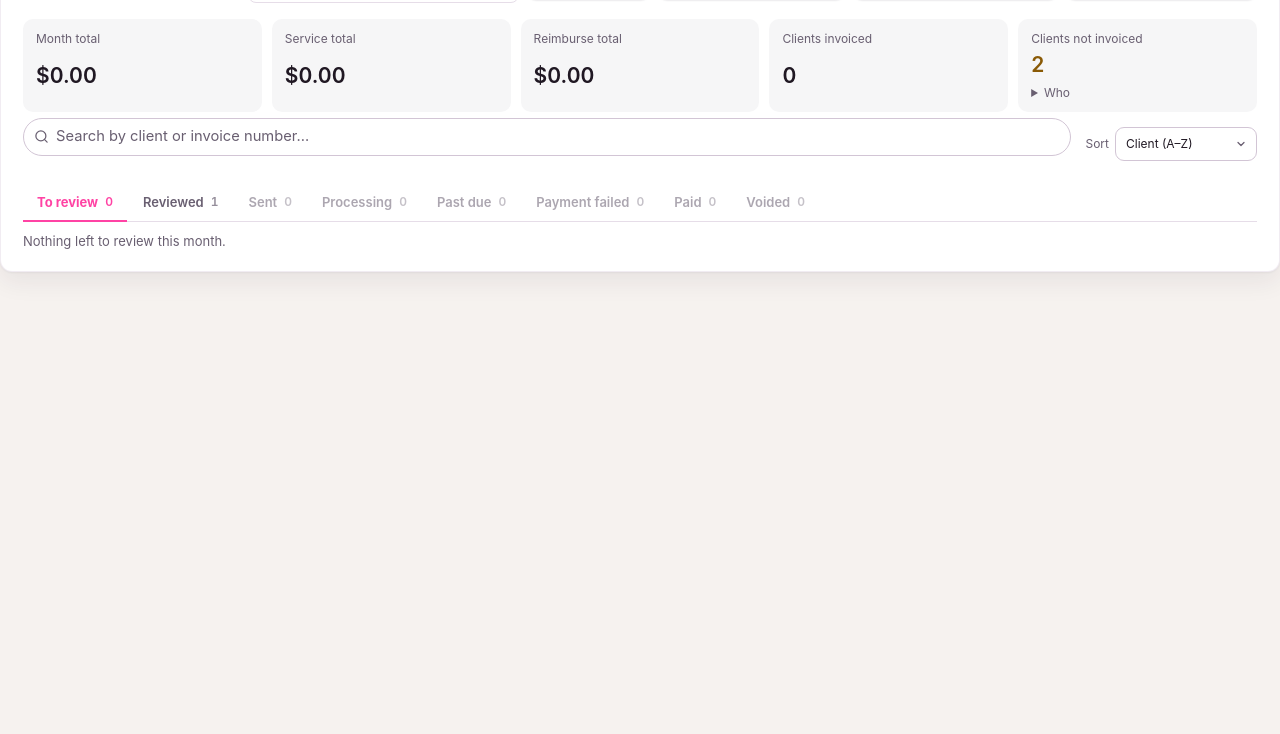
Test: adding an address for this send only › takes the address on Enter as well, trimmed
This screenshot has width=1280, height=734.
Click the tab "Reviewed 1" at (181, 203), box [129, 184, 232, 222]
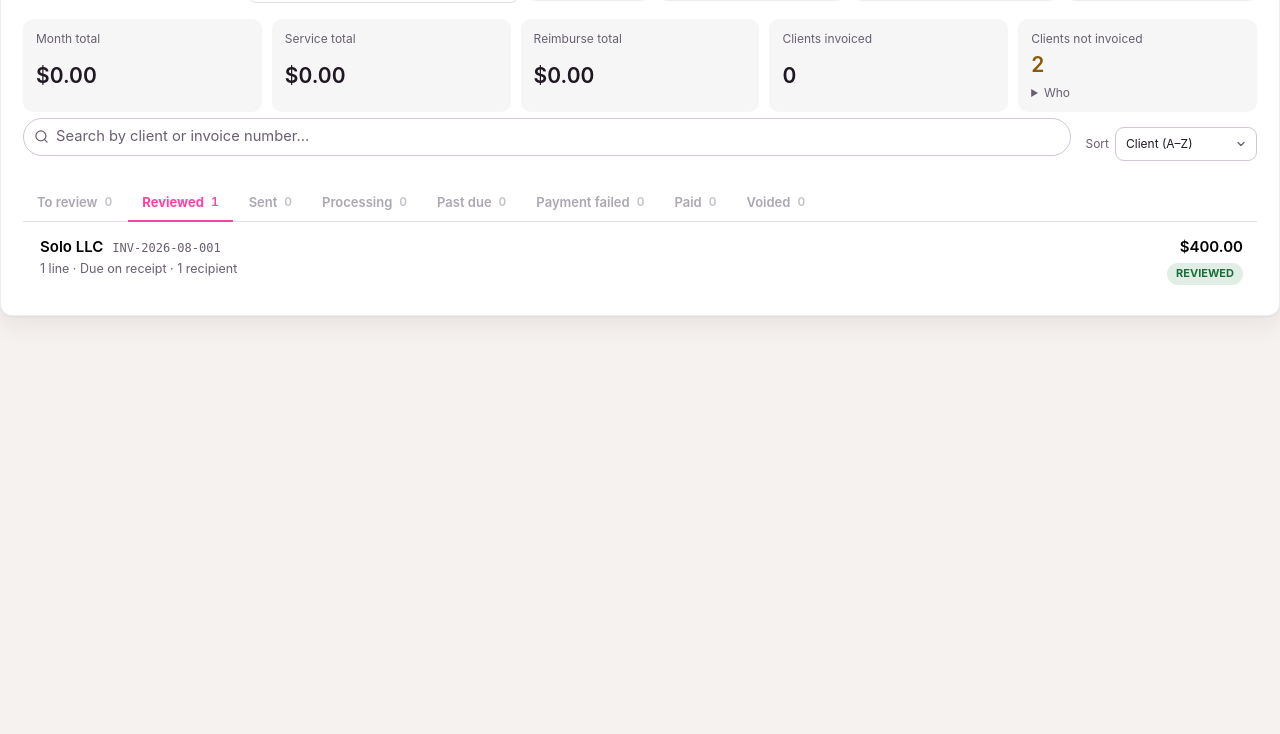
Click the text "INV-2026-08-001" at (166, 249), box [112, 240, 221, 258]
(page scrolled)
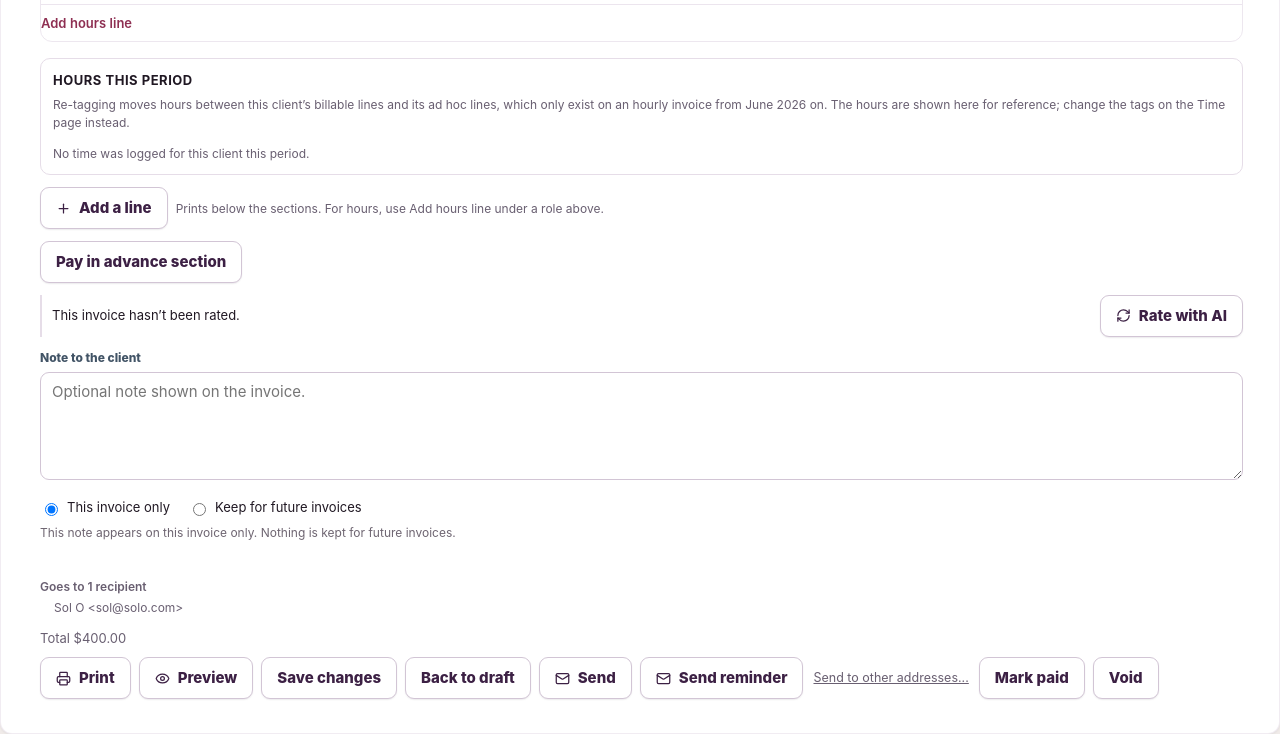
Click the button "Send to other addresses..." at (891, 678), box [812, 657, 971, 699]
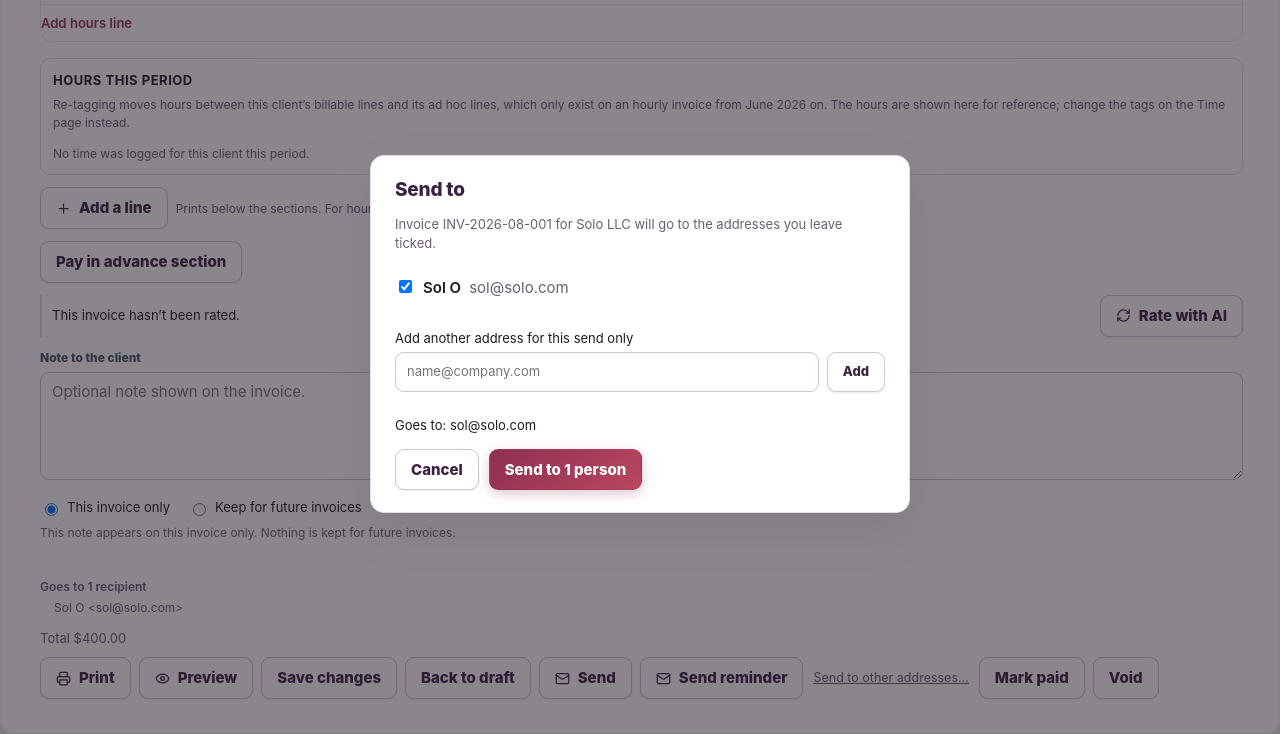
Type "  ap@other.com " into the field labelled "Add another address for this send only" at (607, 372), box [395, 352, 819, 392]
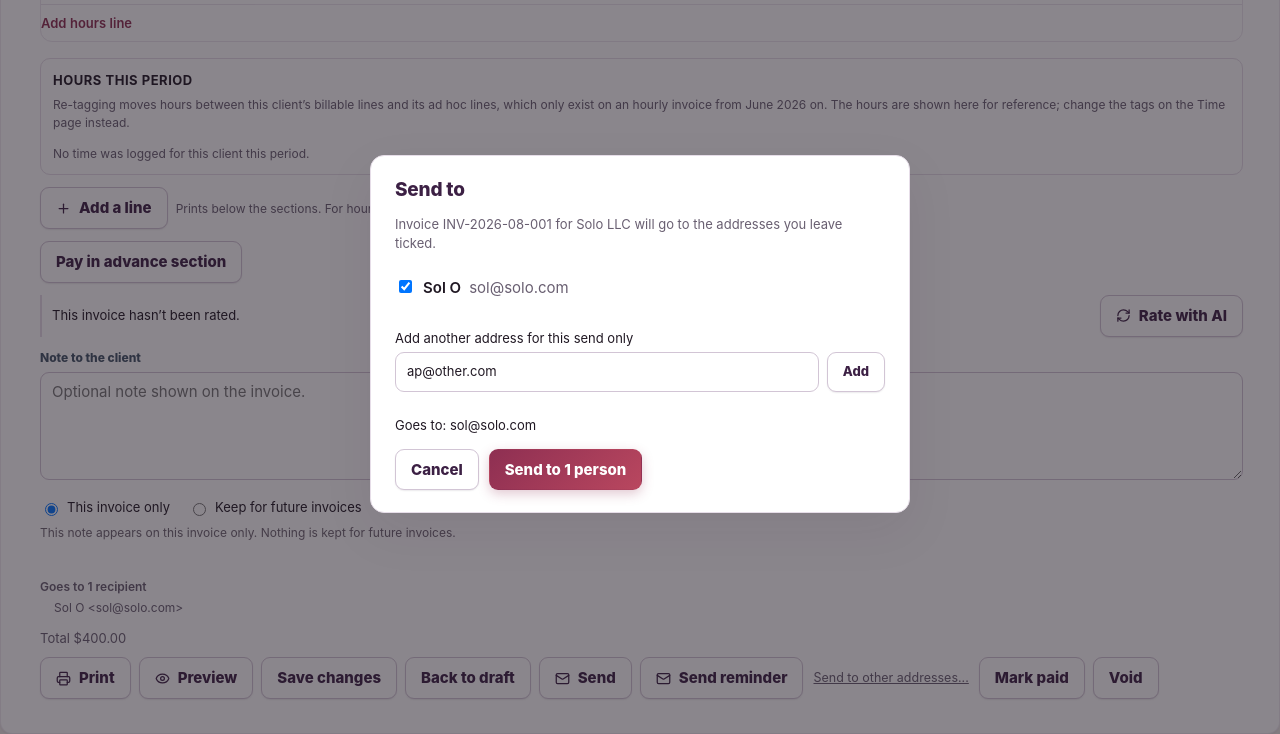
Press Enter in the field labelled "Add another address for this send only", box [395, 352, 819, 392]
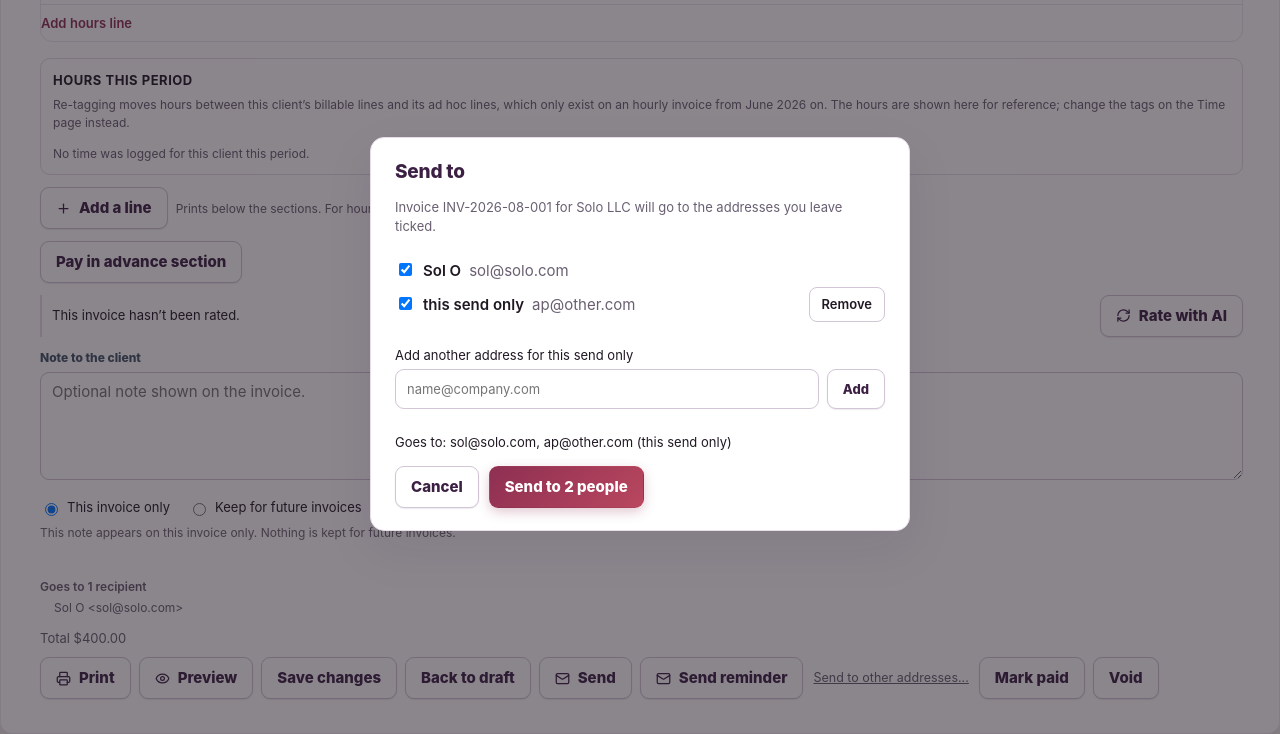
Expected: the checkbox labelled "this send only ap@other.com" is checked, [399, 297, 412, 310]
